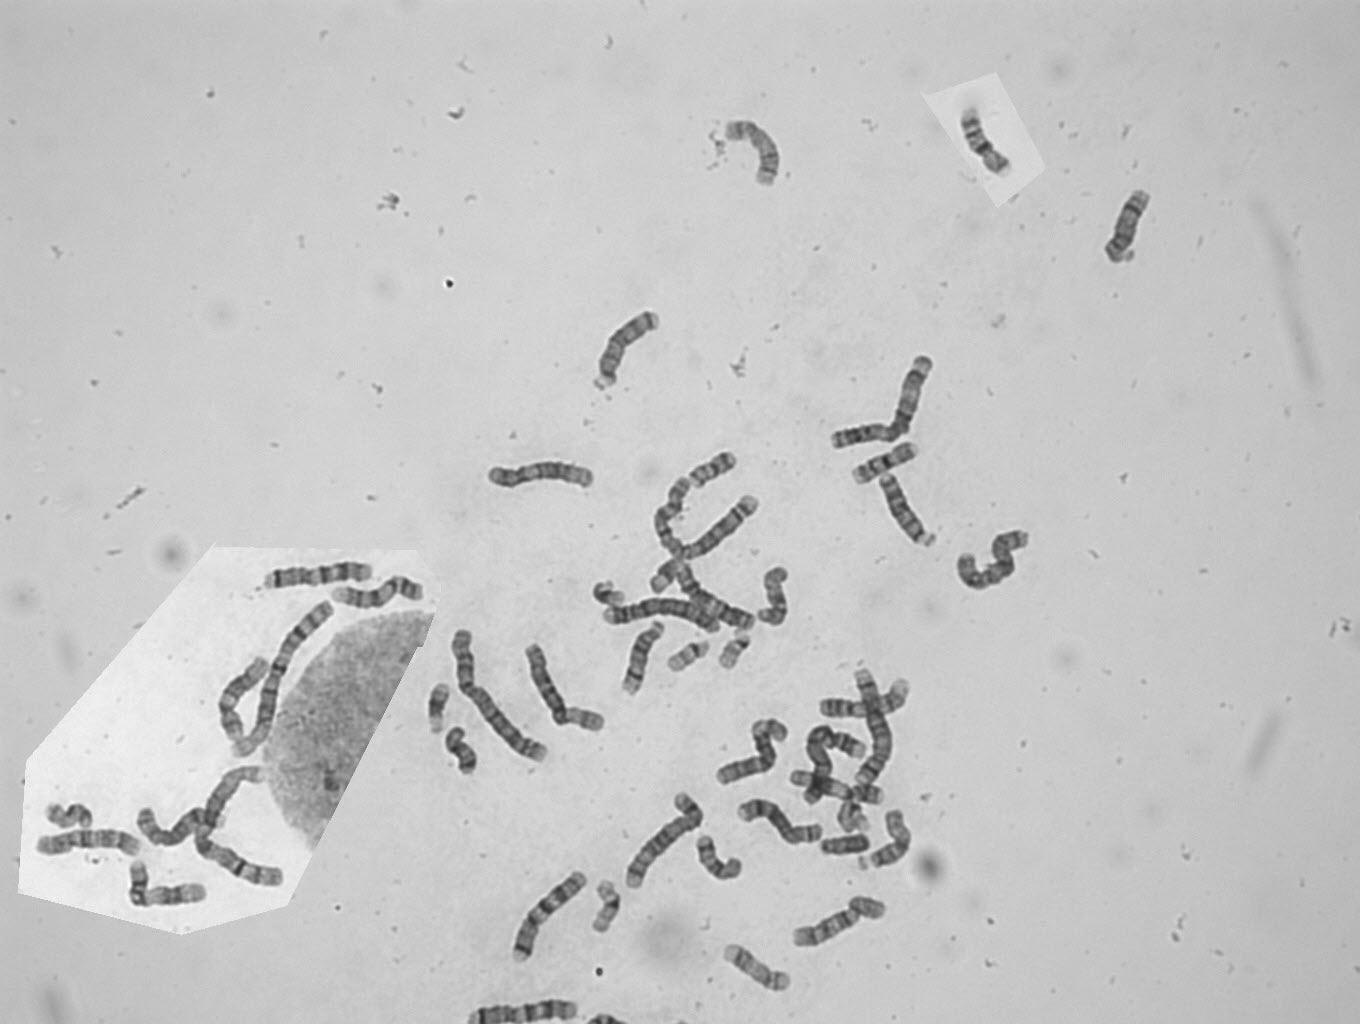chromosomes: (230, 599, 339, 758), (448, 618, 553, 770), (197, 763, 295, 887), (826, 349, 937, 456), (652, 471, 765, 561), (503, 864, 590, 972), (642, 552, 760, 629), (619, 788, 708, 891), (521, 640, 611, 736), (586, 308, 663, 397), (713, 115, 790, 202), (955, 527, 1043, 596), (800, 726, 870, 810), (788, 895, 890, 951), (851, 664, 896, 792), (876, 466, 937, 555), (848, 806, 918, 883), (713, 719, 791, 787), (602, 596, 724, 640), (722, 937, 807, 999), (219, 648, 273, 743), (734, 794, 830, 848), (125, 857, 215, 913), (960, 98, 1019, 181), (1102, 186, 1156, 267), (843, 433, 922, 487), (135, 803, 234, 847), (812, 678, 915, 719), (784, 769, 889, 808), (618, 618, 665, 699), (333, 572, 436, 609), (250, 561, 380, 591), (35, 829, 151, 862), (482, 460, 600, 490), (692, 835, 746, 883), (758, 561, 794, 632), (685, 450, 745, 490), (659, 630, 711, 678), (444, 719, 482, 780), (423, 678, 457, 735), (593, 877, 622, 940), (44, 798, 96, 831), (718, 624, 753, 672), (587, 577, 630, 608), (818, 834, 876, 856), (835, 800, 872, 835)
